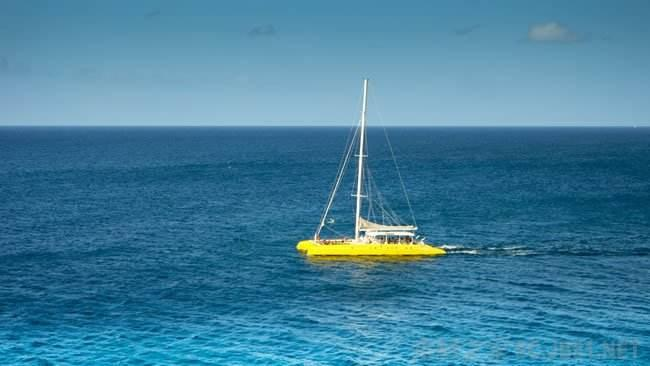fanchuan: (294, 78, 455, 260)
